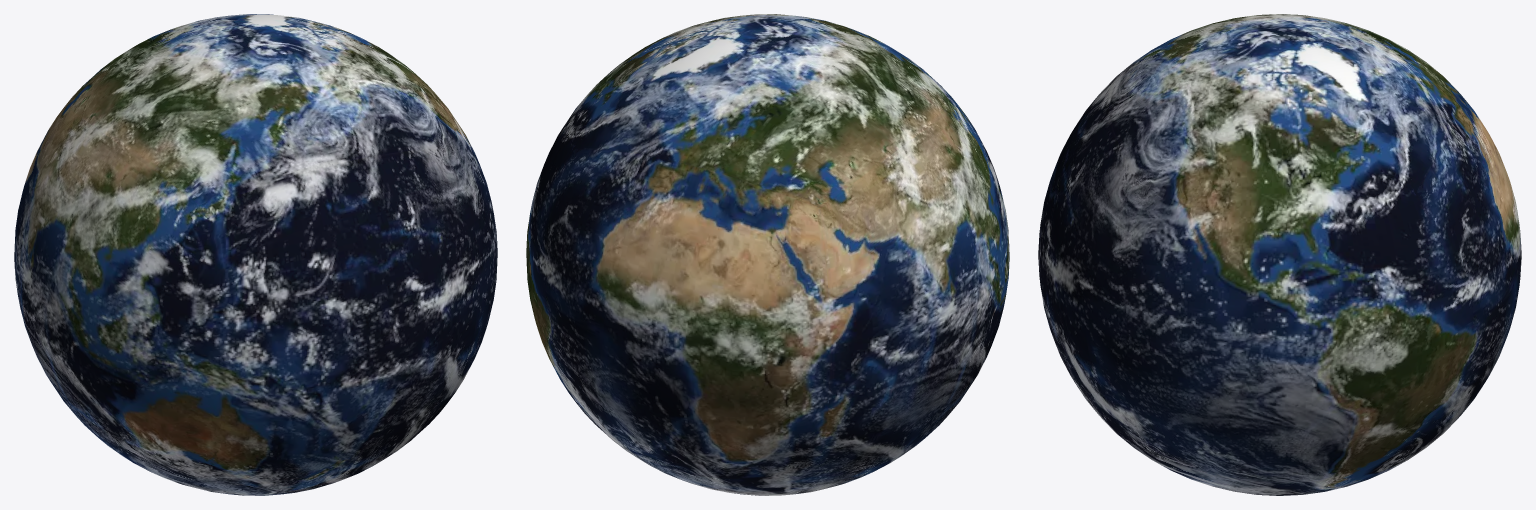
The model's file is EarthClouds_1_12756-transformed.glb.
3 views of the same model, side by side, from view 1: azimuth 30°, elevation 25°; view 2: azimuth 150°, elevation 25°; view 3: azimuth 270°, elevation 25° (orthographic).
Visible parts, largest first — view 1: Cube.001; view 2: Cube.001; view 3: Cube.001.
Part boxes in pixels (left/top/right/bottom): Cube.001: left=14, top=14, right=497, bottom=495; Cube.001: left=526, top=14, right=1009, bottom=495; Cube.001: left=1038, top=14, right=1521, bottom=495.
Size of the model in its own units: 1000 by 997 by 1000.
Materials: 1 (1 with a texture image).
